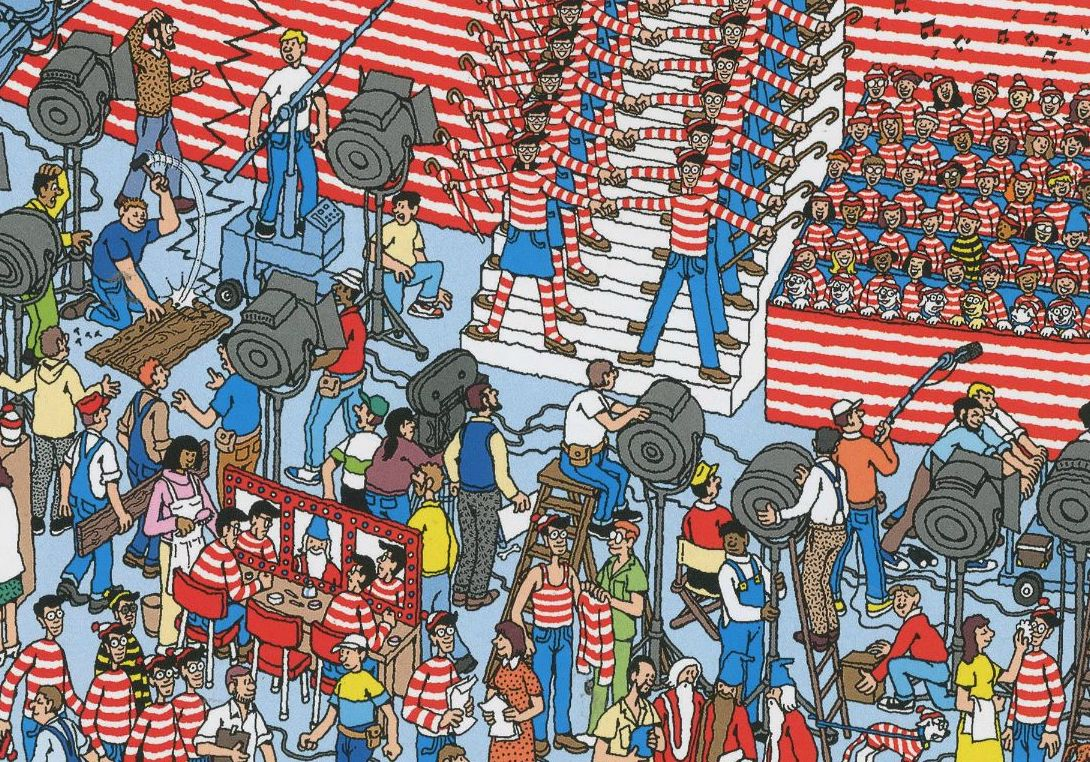waldo: (405, 607, 478, 732), (653, 148, 724, 260), (1011, 594, 1064, 725), (129, 655, 187, 756), (85, 620, 137, 717), (167, 646, 209, 715), (135, 657, 178, 705), (162, 647, 207, 691), (90, 622, 130, 669), (531, 515, 570, 563), (421, 610, 457, 660), (1031, 598, 1058, 655), (693, 80, 729, 121), (706, 45, 741, 86), (674, 149, 702, 193), (718, 9, 747, 49), (684, 118, 713, 157)
